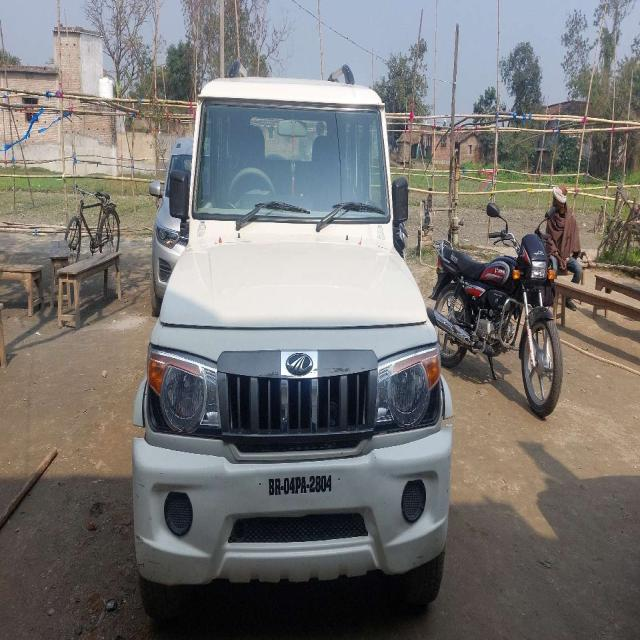light_vehicle: (133, 83, 444, 572)
